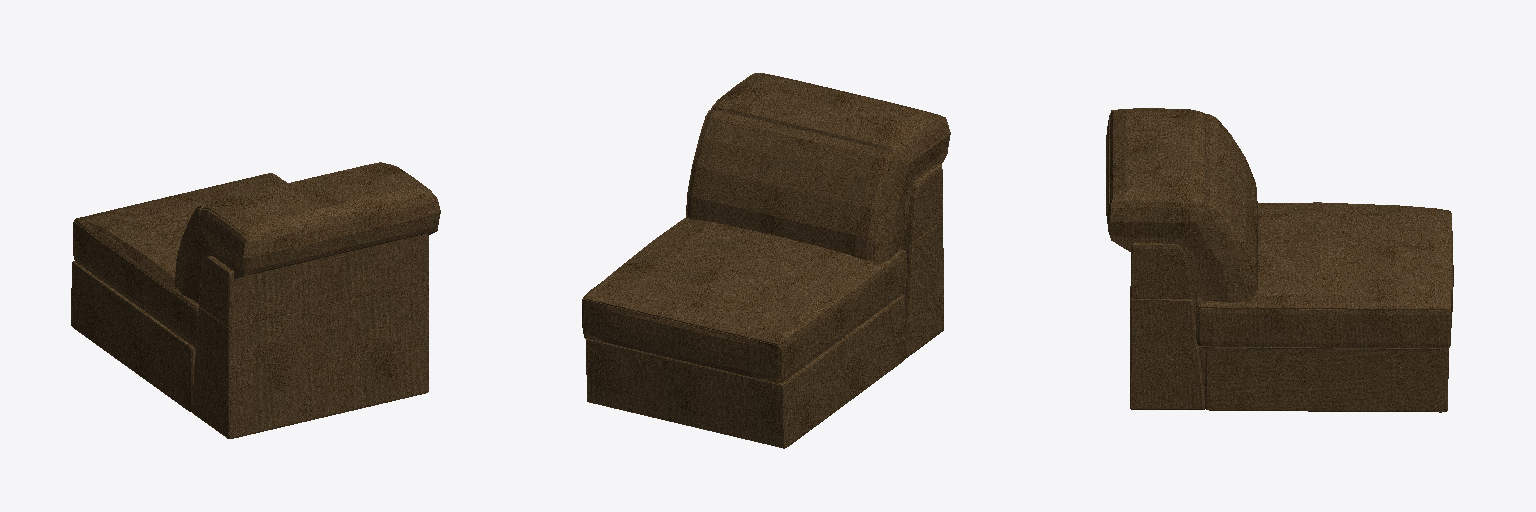
3 renders of one model, left to right at view 1: azimuth 30°, elevation 25°; view 2: azimuth 150°, elevation 25°; view 3: azimuth 270°, elevation 25°, orthographic.
Parts seen in each view (by area): view 1: Mesh4 Group4 Component_15_1 Model, Mesh1 Group1 Component_15_1 Model, Mesh3 Group3 Component_15_1 Model, Mesh2 Group2 Component_15_1 Model; view 2: Mesh1 Group1 Component_15_1 Model, Mesh3 Group3 Component_15_1 Model, Mesh2 Group2 Component_15_1 Model, Mesh4 Group4 Component_15_1 Model; view 3: Mesh3 Group3 Component_15_1 Model, Mesh1 Group1 Component_15_1 Model, Mesh2 Group2 Component_15_1 Model, Mesh4 Group4 Component_15_1 Model.
Boxes of the visible parts, x1,y1,x2,y2 form: Mesh4 Group4 Component_15_1 Model: [192, 233, 428, 438]; Mesh1 Group1 Component_15_1 Model: [174, 162, 440, 303]; Mesh3 Group3 Component_15_1 Model: [73, 173, 286, 348]; Mesh2 Group2 Component_15_1 Model: [71, 261, 195, 411]; Mesh1 Group1 Component_15_1 Model: [686, 73, 950, 264]; Mesh3 Group3 Component_15_1 Model: [582, 217, 906, 383]; Mesh2 Group2 Component_15_1 Model: [586, 294, 905, 448]; Mesh4 Group4 Component_15_1 Model: [901, 163, 943, 357]; Mesh3 Group3 Component_15_1 Model: [1196, 202, 1453, 349]; Mesh1 Group1 Component_15_1 Model: [1106, 108, 1257, 302]; Mesh2 Group2 Component_15_1 Model: [1205, 348, 1448, 412]; Mesh4 Group4 Component_15_1 Model: [1130, 243, 1204, 409].
Bounding box in the file's own units: 13.58 × 13.85 × 19.99.
Materials: 1 (1 with a texture image).